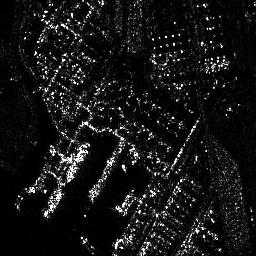ship: (65, 140, 89, 182), (44, 187, 62, 216)
